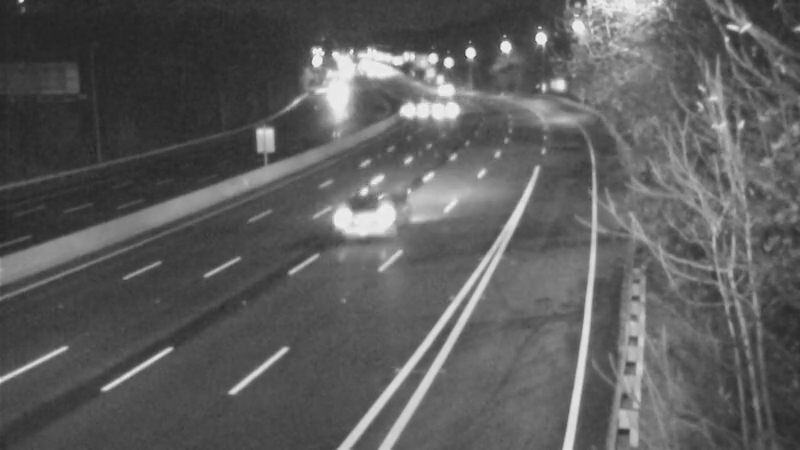vehicle: (325, 179, 405, 259), (420, 63, 470, 113), (414, 81, 464, 131), (379, 90, 429, 140), (312, 66, 362, 116)
